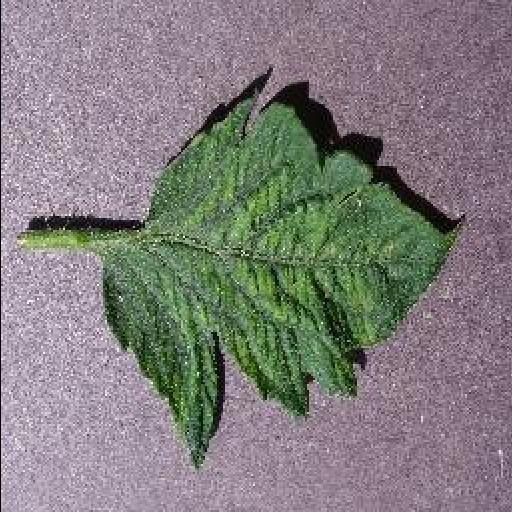Mosaic Virus: (104, 88, 464, 476)
